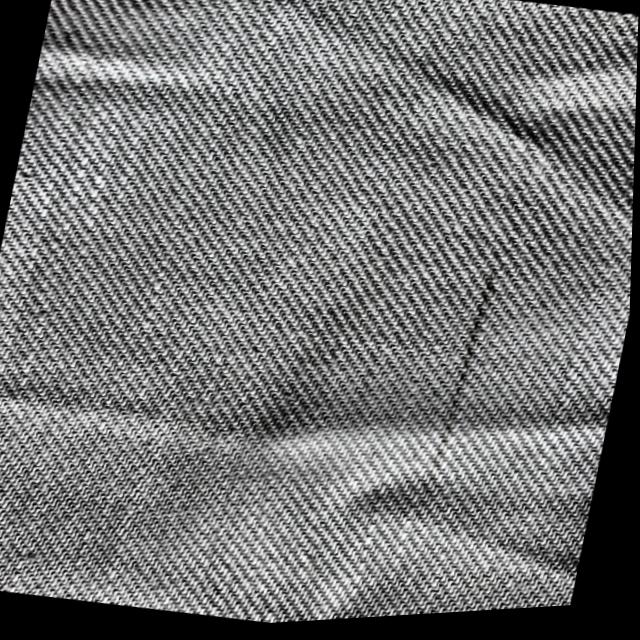Hole: (420, 270, 506, 522)
